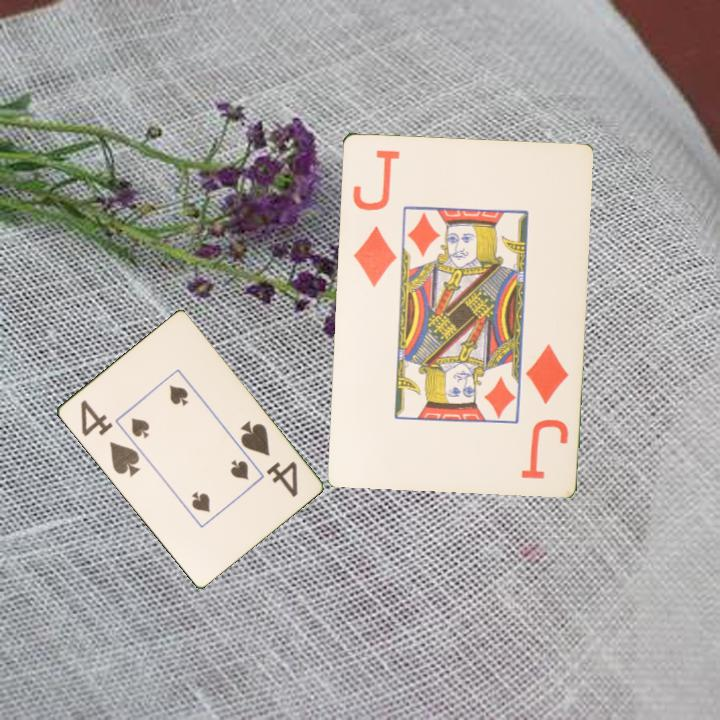4s: (76, 396, 143, 479), (236, 417, 300, 500)
Jd: (348, 145, 403, 289), (517, 339, 572, 481)
